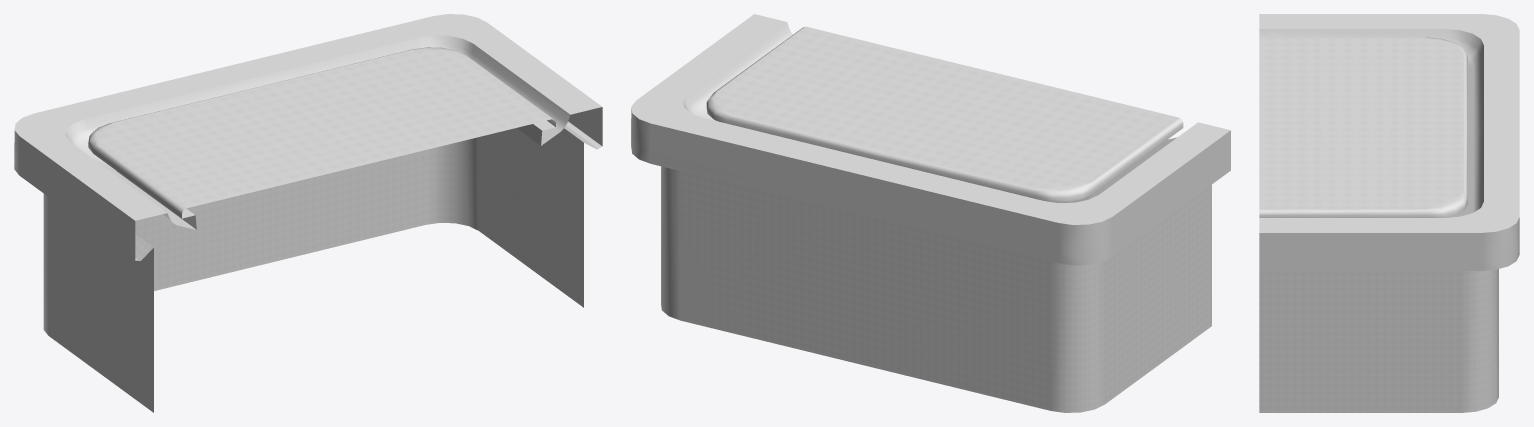
The model's file is SM_Grond_06_half.fbx.
The picture shows the model from 3 angles, left to right: view 1: azimuth 30°, elevation 25°; view 2: azimuth 150°, elevation 25°; view 3: azimuth 270°, elevation 25°; orthographic projection. The views are drawn at different scales.
Parts seen in each view (by area): view 1: SM_Grond_06_half; view 2: SM_Grond_06_half; view 3: SM_Grond_06_half.
Part boxes in pixels (x1,y1,x2,y2): SM_Grond_06_half: (14, 14, 602, 412); SM_Grond_06_half: (631, 14, 1230, 412); SM_Grond_06_half: (1259, 14, 1519, 412).
Bounding box in the file's own units: 210 × 84.32 × 105.
